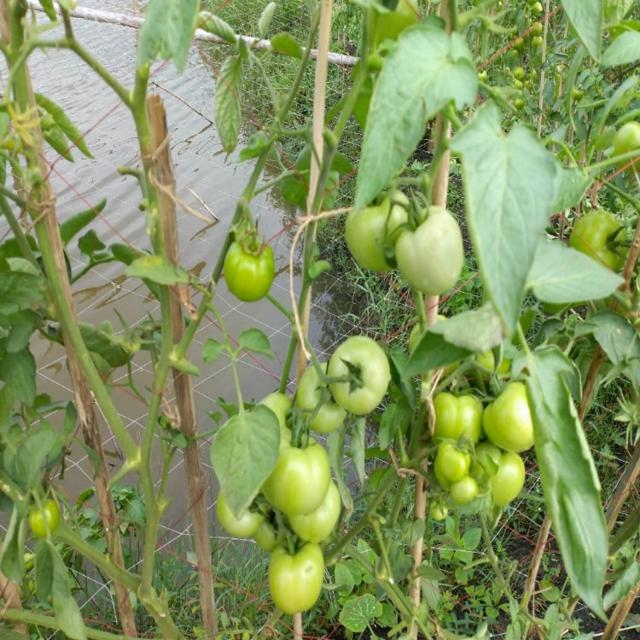tomato: (266, 397, 328, 513), (395, 208, 464, 298), (345, 192, 406, 270), (330, 336, 386, 415), (271, 544, 320, 617), (570, 209, 631, 265), (489, 380, 539, 446), (301, 362, 344, 438), (475, 440, 525, 503), (227, 239, 274, 305), (295, 478, 339, 545), (436, 390, 485, 444), (216, 495, 261, 539), (436, 444, 471, 485), (609, 122, 640, 161), (30, 502, 63, 534), (451, 478, 479, 507), (432, 495, 451, 520), (532, 20, 550, 39), (515, 97, 529, 110), (532, 1, 548, 12), (532, 39, 546, 50), (515, 63, 527, 73)
